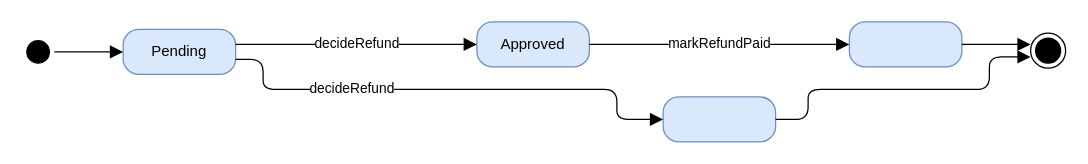
Image size: 1088x164. Some labels were removed from this diagram. Each missing label, with the box of its shape:
Paid: (848, 21, 962, 67)
Rejected: (662, 96, 776, 142)
